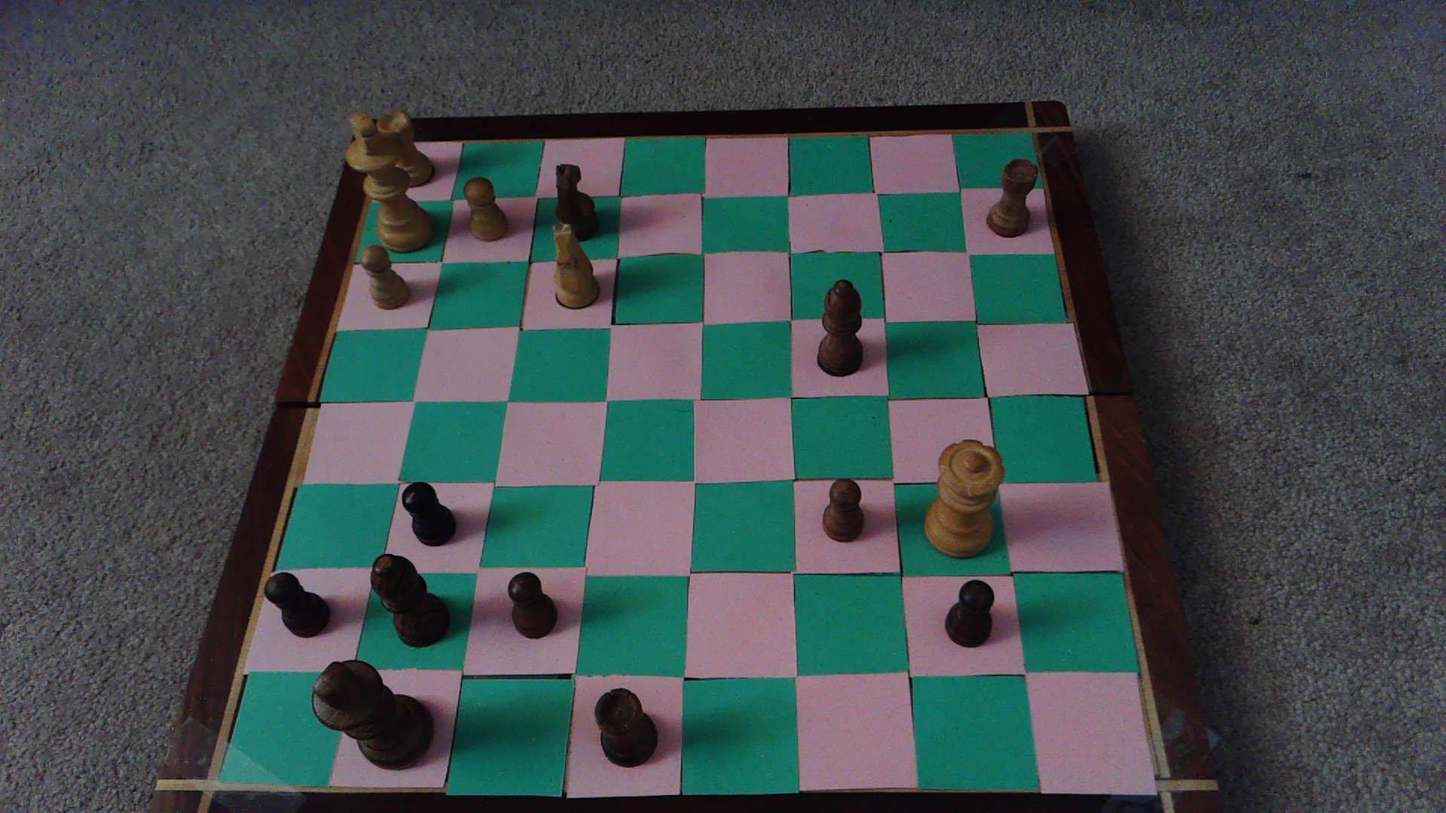dark_piece: (313, 660, 432, 769), (372, 554, 449, 647), (595, 688, 657, 766), (818, 279, 862, 375), (265, 573, 329, 636), (988, 159, 1037, 236), (554, 163, 600, 240), (402, 482, 454, 546), (945, 580, 993, 647), (508, 572, 556, 638), (822, 479, 864, 541)
white_piece: (345, 113, 435, 250), (926, 440, 1004, 556), (550, 224, 600, 311), (376, 112, 433, 187), (360, 247, 409, 310), (462, 178, 509, 242)
